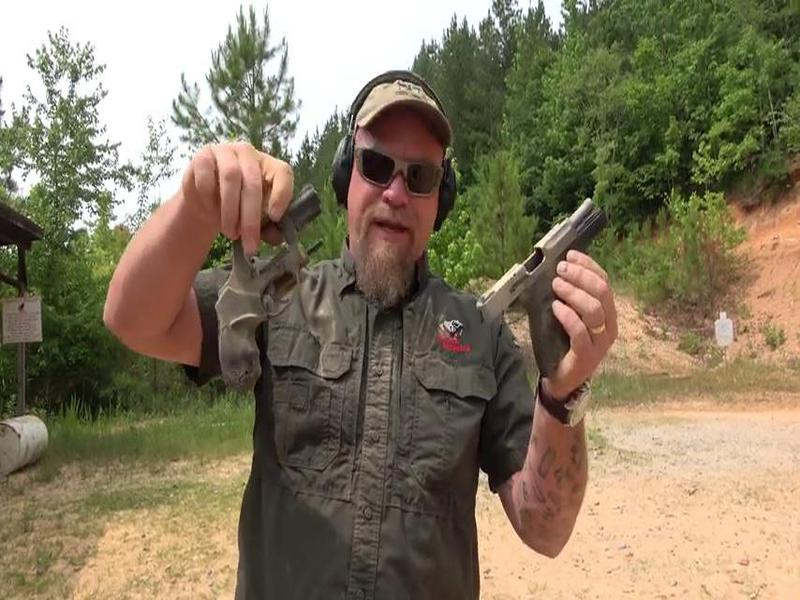Pistola: (468, 169, 642, 398)
Revolver: (196, 176, 362, 414)
